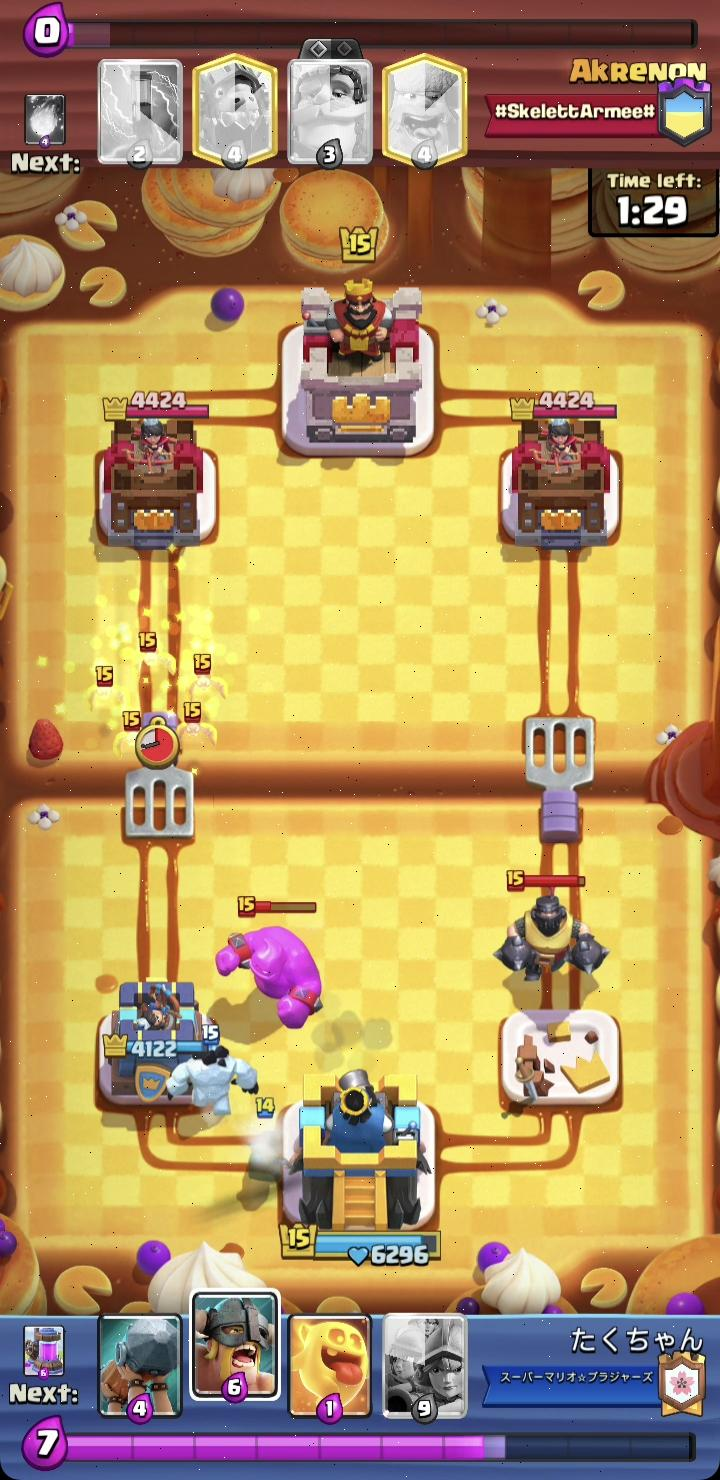EBat: (121, 631, 176, 693), (86, 663, 136, 718), (183, 649, 226, 704), (177, 699, 217, 749), (113, 711, 140, 758)
EElixerGolem: (216, 926, 320, 1028), (240, 897, 316, 917)
EKingTower: (281, 280, 434, 457)
EMegaKnight: (495, 870, 608, 981)
EnemyPrincessTower: (501, 393, 620, 551), (99, 403, 216, 550)
OBandit: (249, 1113, 287, 1183)
OIceGolem: (167, 1046, 258, 1117)
OwnPrincessTower: (99, 980, 218, 1101)
TowerDown: (500, 1009, 619, 1107)
